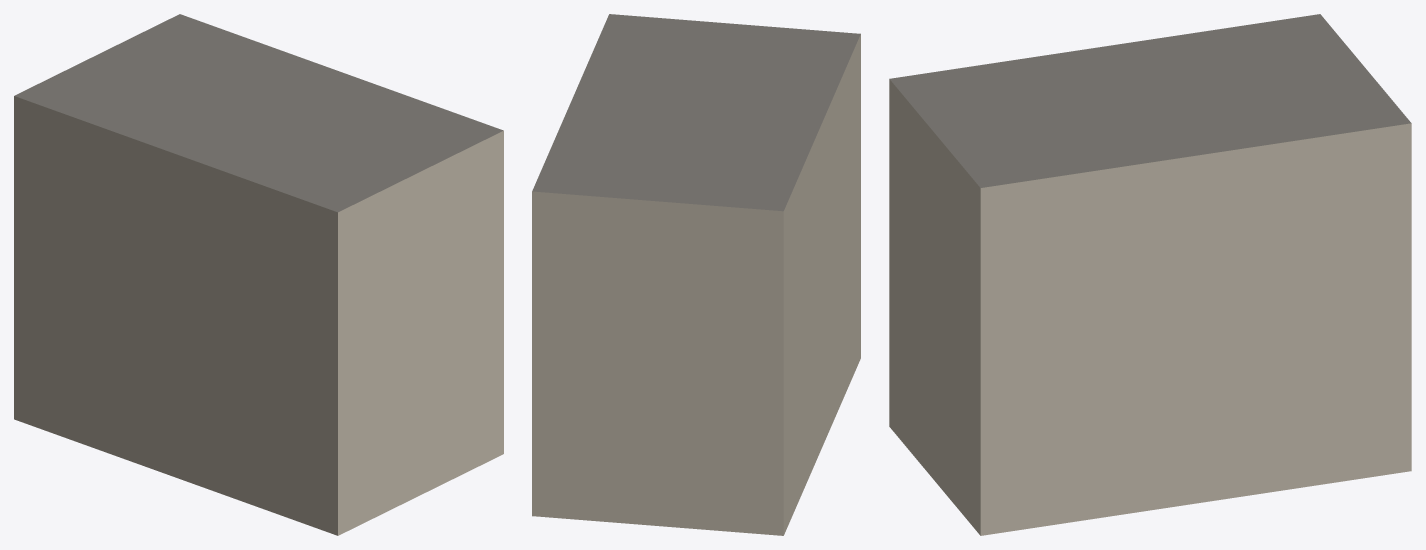
The picture shows the model from 3 angles, left to right: view 1: azimuth 30°, elevation 25°; view 2: azimuth 150°, elevation 25°; view 3: azimuth 270°, elevation 25°; orthographic projection. The views are drawn at different scales.
Visible parts, largest first — view 1: HP-w1287260014; view 2: HP-w1287260014; view 3: HP-w1287260014.
Part boxes in pixels (<box>): HP-w1287260014: <box>14,14,503,535</box>; HP-w1287260014: <box>532,14,860,535</box>; HP-w1287260014: <box>889,14,1411,535</box>.
Bounding box in the file's own units: 19.32 × 18 × 24.49.
